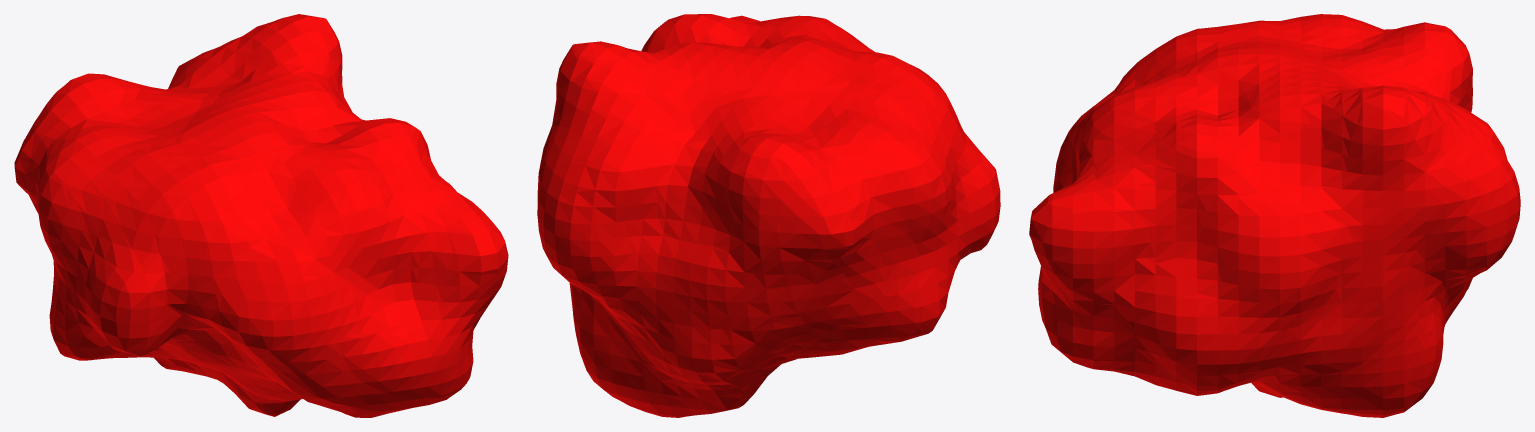
File: yeiG_coarse.dae
The picture shows the model from 3 angles, left to right: view 1: azimuth 30°, elevation 25°; view 2: azimuth 150°, elevation 25°; view 3: azimuth 270°, elevation 25°; orthographic projection. The views are drawn at different scales.
Parts seen in each view (by area): view 1: yeiG; view 2: yeiG; view 3: yeiG.
Boxes of the visible parts, left/top/right/bottom form: yeiG: left=14, top=14, right=508, bottom=417; yeiG: left=537, top=14, right=1000, bottom=417; yeiG: left=1029, top=14, right=1520, bottom=417.
Bounding box in the file's own units: 48.64 × 43.16 × 55.32.
